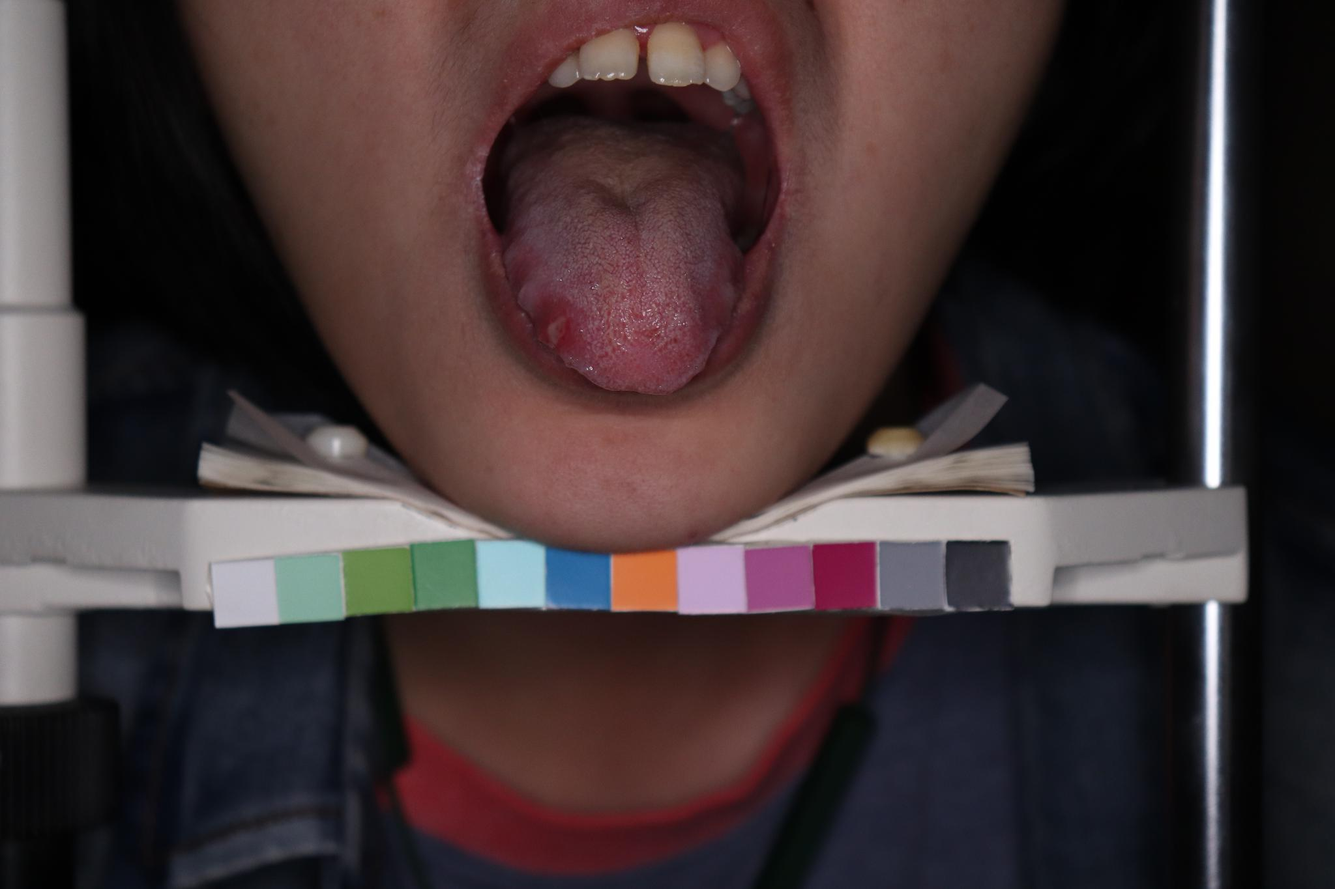baitaishe: (499, 115, 744, 403)
chihenshe: (501, 190, 590, 375), (681, 218, 741, 367)
